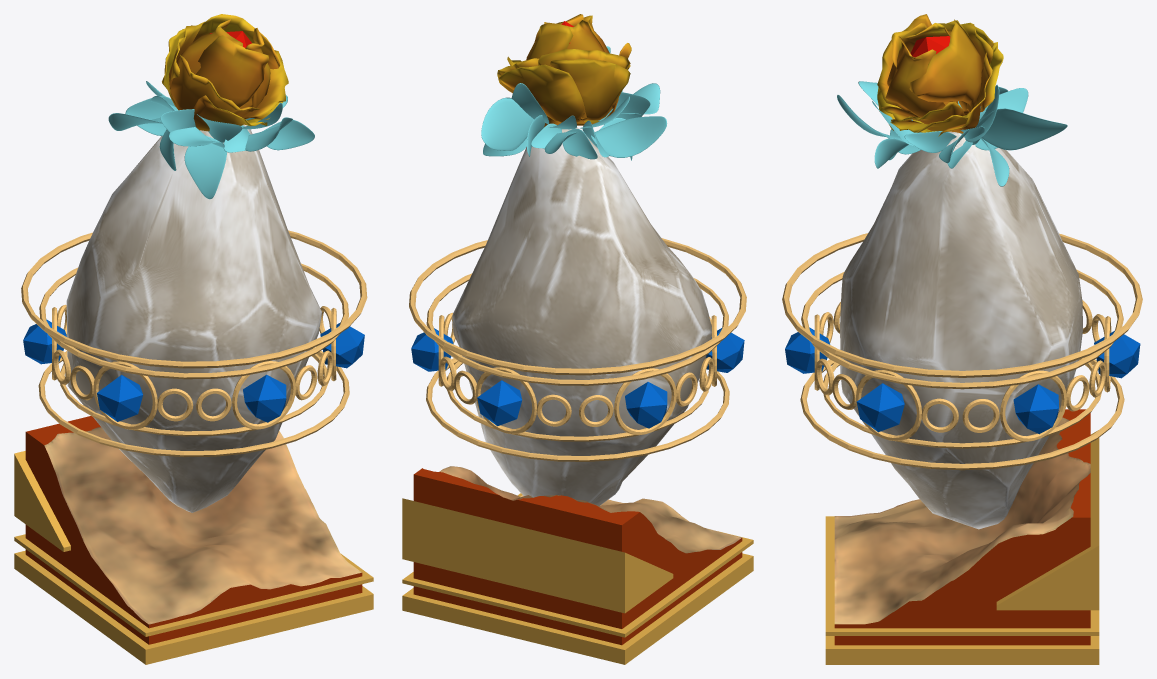
Rendered from JadeArdinals_695.glb.
The picture shows the model from 3 angles, left to right: view 1: azimuth 30°, elevation 25°; view 2: azimuth 150°, elevation 25°; view 3: azimuth 270°, elevation 25°; orthographic projection. The views are drawn at different scales.
Visible parts, largest first — view 1: White, Desert, LapizBelt, PinkRose.002; view 2: White, Desert, LapizBelt, PinkRose.002; view 3: White, Desert, LapizBelt, PinkRose.002.
Part boxes in pixels (left/top/right/bottom): White: left=66, top=124, right=321, bottom=512; Desert: left=14, top=416, right=373, bottom=664; LapizBelt: left=21, top=230, right=367, bottom=457; PinkRose.002: left=108, top=14, right=314, bottom=199; White: left=452, top=127, right=711, bottom=505; Desert: left=402, top=466, right=753, bottom=664; LapizBelt: left=409, top=238, right=746, bottom=461; PinkRose.002: left=481, top=14, right=667, bottom=160; White: left=840, top=131, right=1082, bottom=529; Desert: left=825, top=409, right=1099, bottom=664; LapizBelt: left=782, top=233, right=1142, bottom=470; PinkRose.002: left=837, top=14, right=1067, bottom=186.
Size of the model in its own units: 2.82 by 5.12 by 2.82.
Materials: 10 (3 with a texture image).
